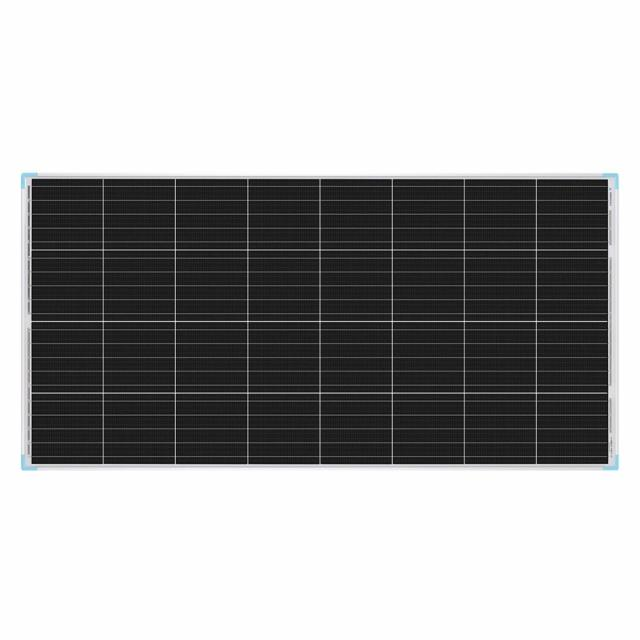no faulty: (31, 176, 612, 462)
